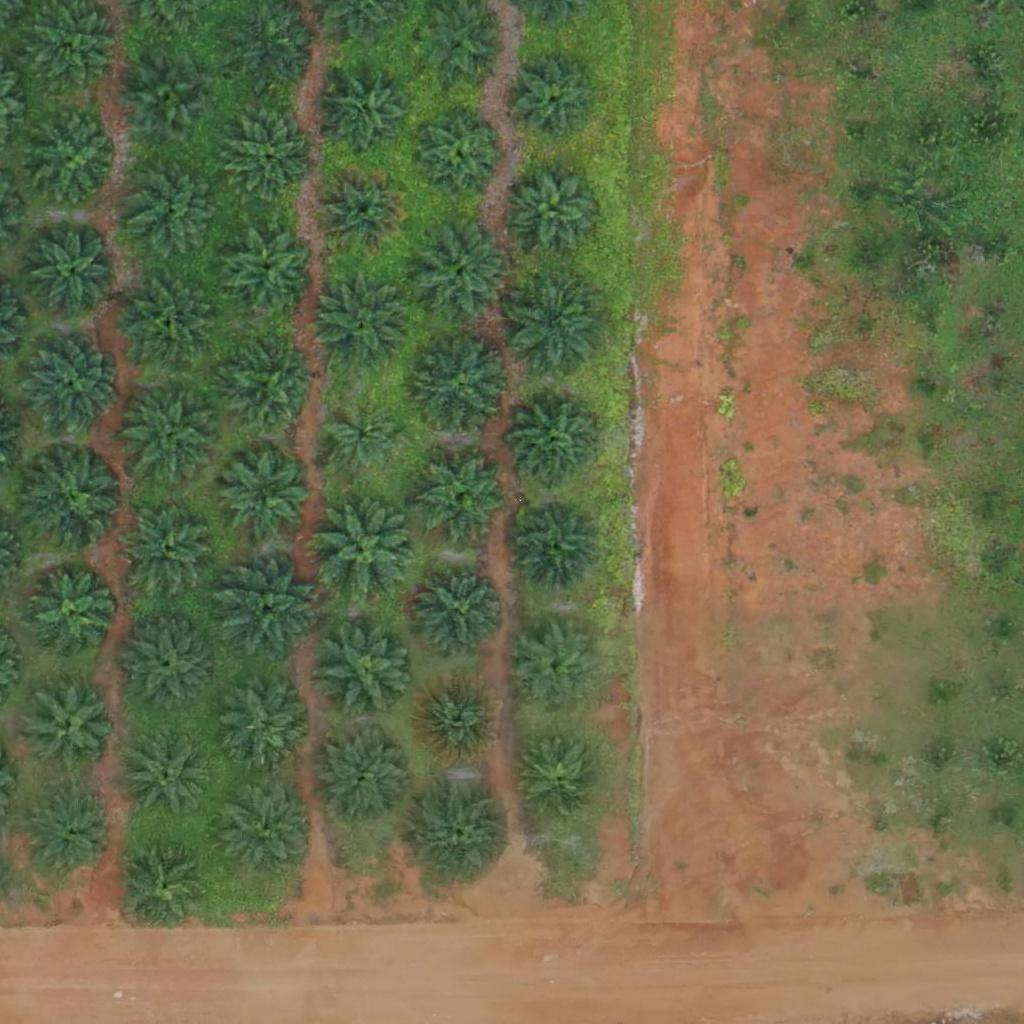Kelapa_Sawit: (318, 501, 418, 602), (218, 221, 318, 322), (219, 337, 319, 438), (217, 561, 317, 662), (124, 157, 224, 258), (121, 274, 221, 375), (120, 383, 220, 484), (119, 500, 219, 601), (117, 616, 217, 717), (20, 334, 120, 435), (25, 447, 125, 548), (214, 774, 314, 875), (316, 622, 416, 723), (314, 726, 414, 827), (413, 780, 513, 881), (503, 271, 603, 371), (408, 223, 508, 323), (410, 337, 510, 437), (313, 275, 413, 375), (127, 57, 215, 145), (512, 56, 600, 144), (513, 166, 601, 254), (420, 453, 508, 541), (414, 563, 502, 651), (227, 113, 315, 201), (27, 571, 115, 659), (27, 684, 115, 772), (29, 790, 117, 878), (125, 730, 213, 818), (122, 840, 210, 928), (414, 674, 502, 762), (519, 737, 607, 825), (323, 70, 410, 158), (513, 403, 600, 491), (514, 500, 601, 588), (513, 626, 600, 714), (415, 109, 502, 197), (319, 167, 406, 255), (222, 449, 309, 537), (27, 116, 114, 204), (30, 231, 117, 319), (229, 677, 316, 765), (325, 403, 400, 479)
